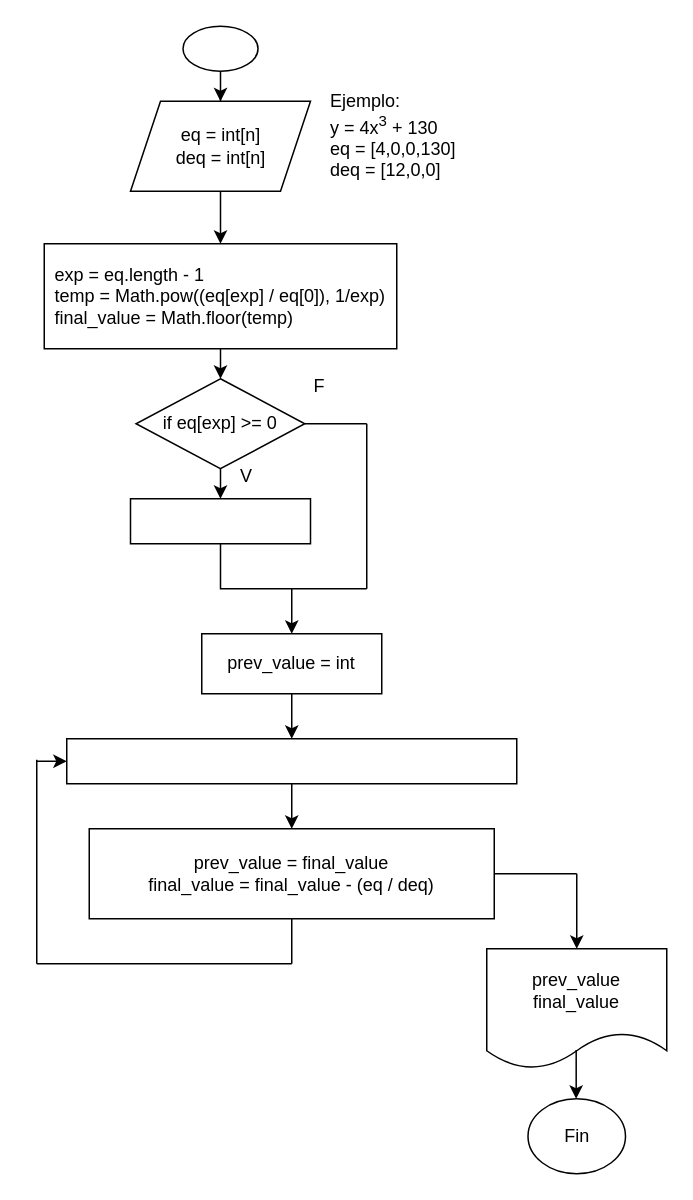
Some shapes in this 693 by 1200 pixel diagram are drawn without their labels. The shapes that lost their labels are listed below. From the top down, each one's centre as x and y in pixels, then its label:
At point 220,48: "Inicio".
At point 219,520: "final_value *= -1".
At point 291,760: "while (Math.abs(final_value - prev_value) > 0.001)".
